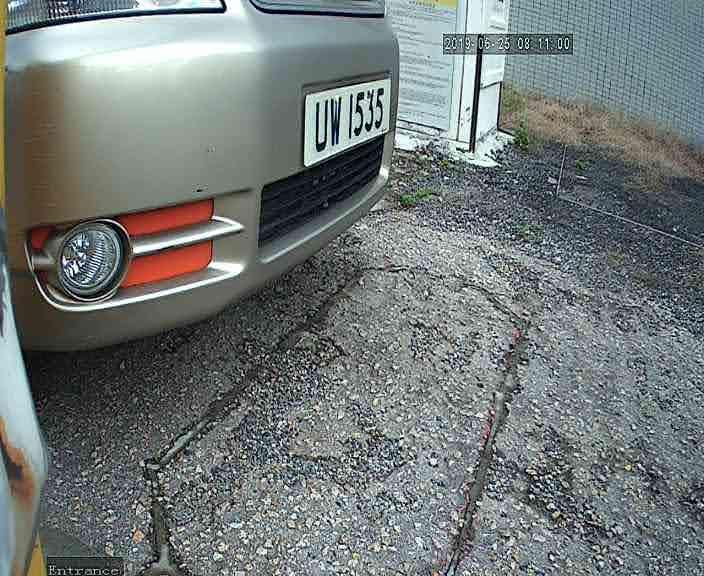privatecar: (8, 2, 420, 357)
